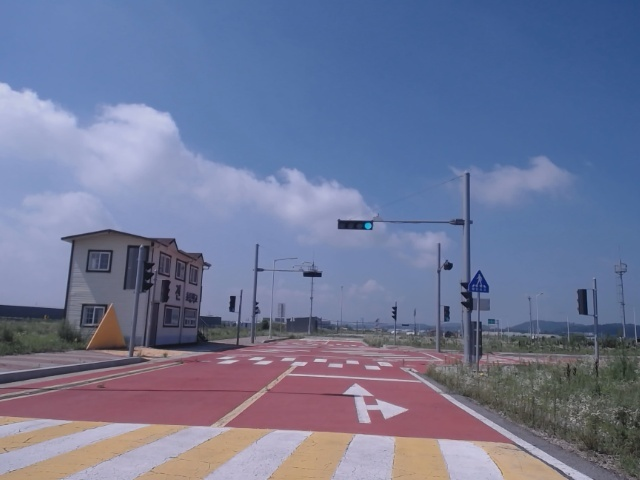straight_green_4: (338, 221, 373, 229)
